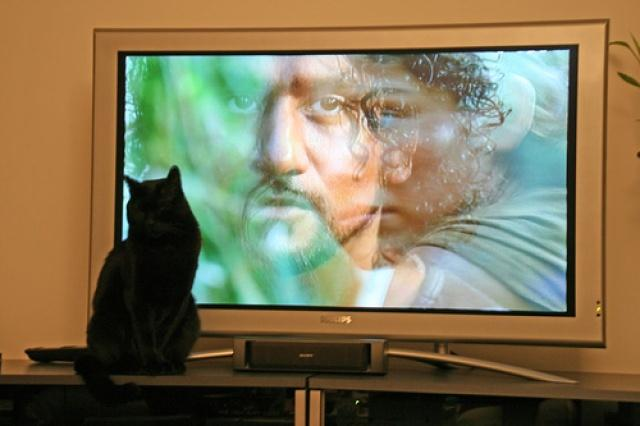AIO PC-Monitor-TV: (84, 17, 607, 348)
